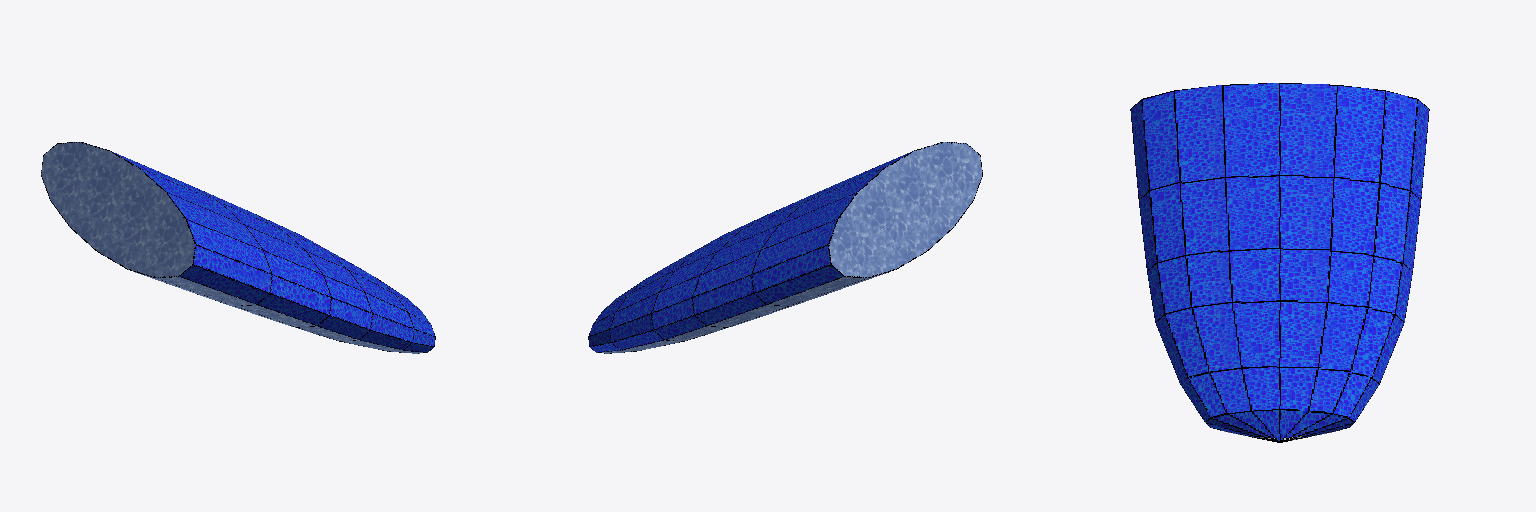
3 renders of one model, left to right at view 1: azimuth 30°, elevation 25°; view 2: azimuth 150°, elevation 25°; view 3: azimuth 270°, elevation 25°, orthographic.
Visible parts, largest first — view 1: cone3; view 2: cone3; view 3: cone3.
Boxes of the visible parts, <box> form: cone3: <box>41,142,435,353</box>; cone3: <box>588,142,982,353</box>; cone3: <box>1130,83,1429,442</box>.
Size of the model in its own units: 0.3451 by 0.2412 by 0.2811.
Materials: 1 (1 with a texture image).